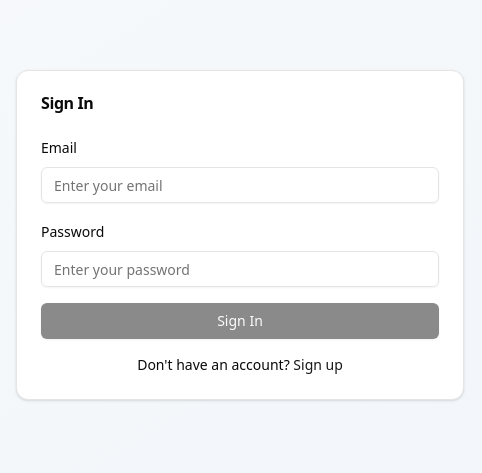
AuthContainer › should handle form switching
The image size is (482, 473).
Click the button "Sign up". click: (318, 365)
box: top-left (293, 355), bottom-right (343, 375)
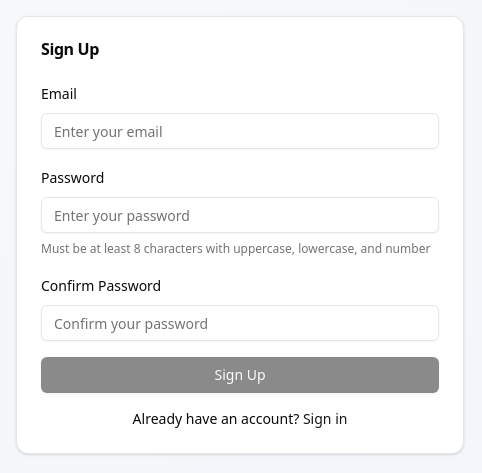
expect the text "Sign Up" is shown: met, box top-left (41, 38), bottom-right (99, 60)
expect the text "Already have an account?" is shown: met, box top-left (133, 409), bottom-right (303, 428)
